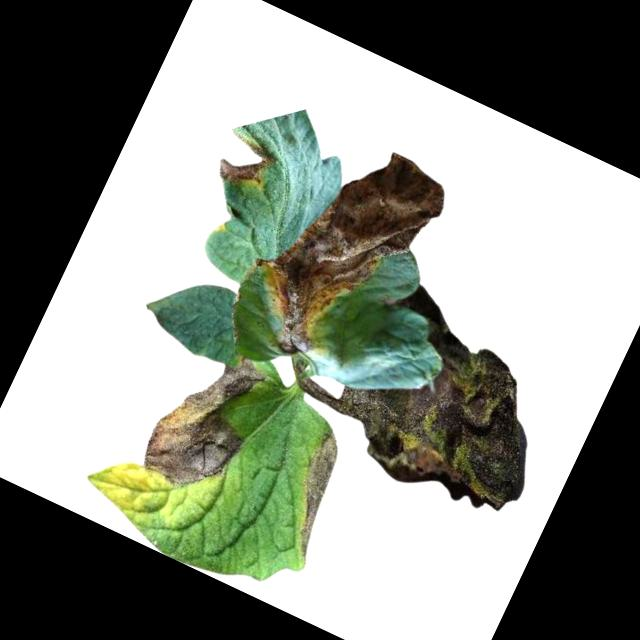Early_blight: (318, 275, 584, 535), (225, 117, 455, 388), (135, 335, 274, 502), (272, 427, 361, 560), (211, 127, 281, 197)
